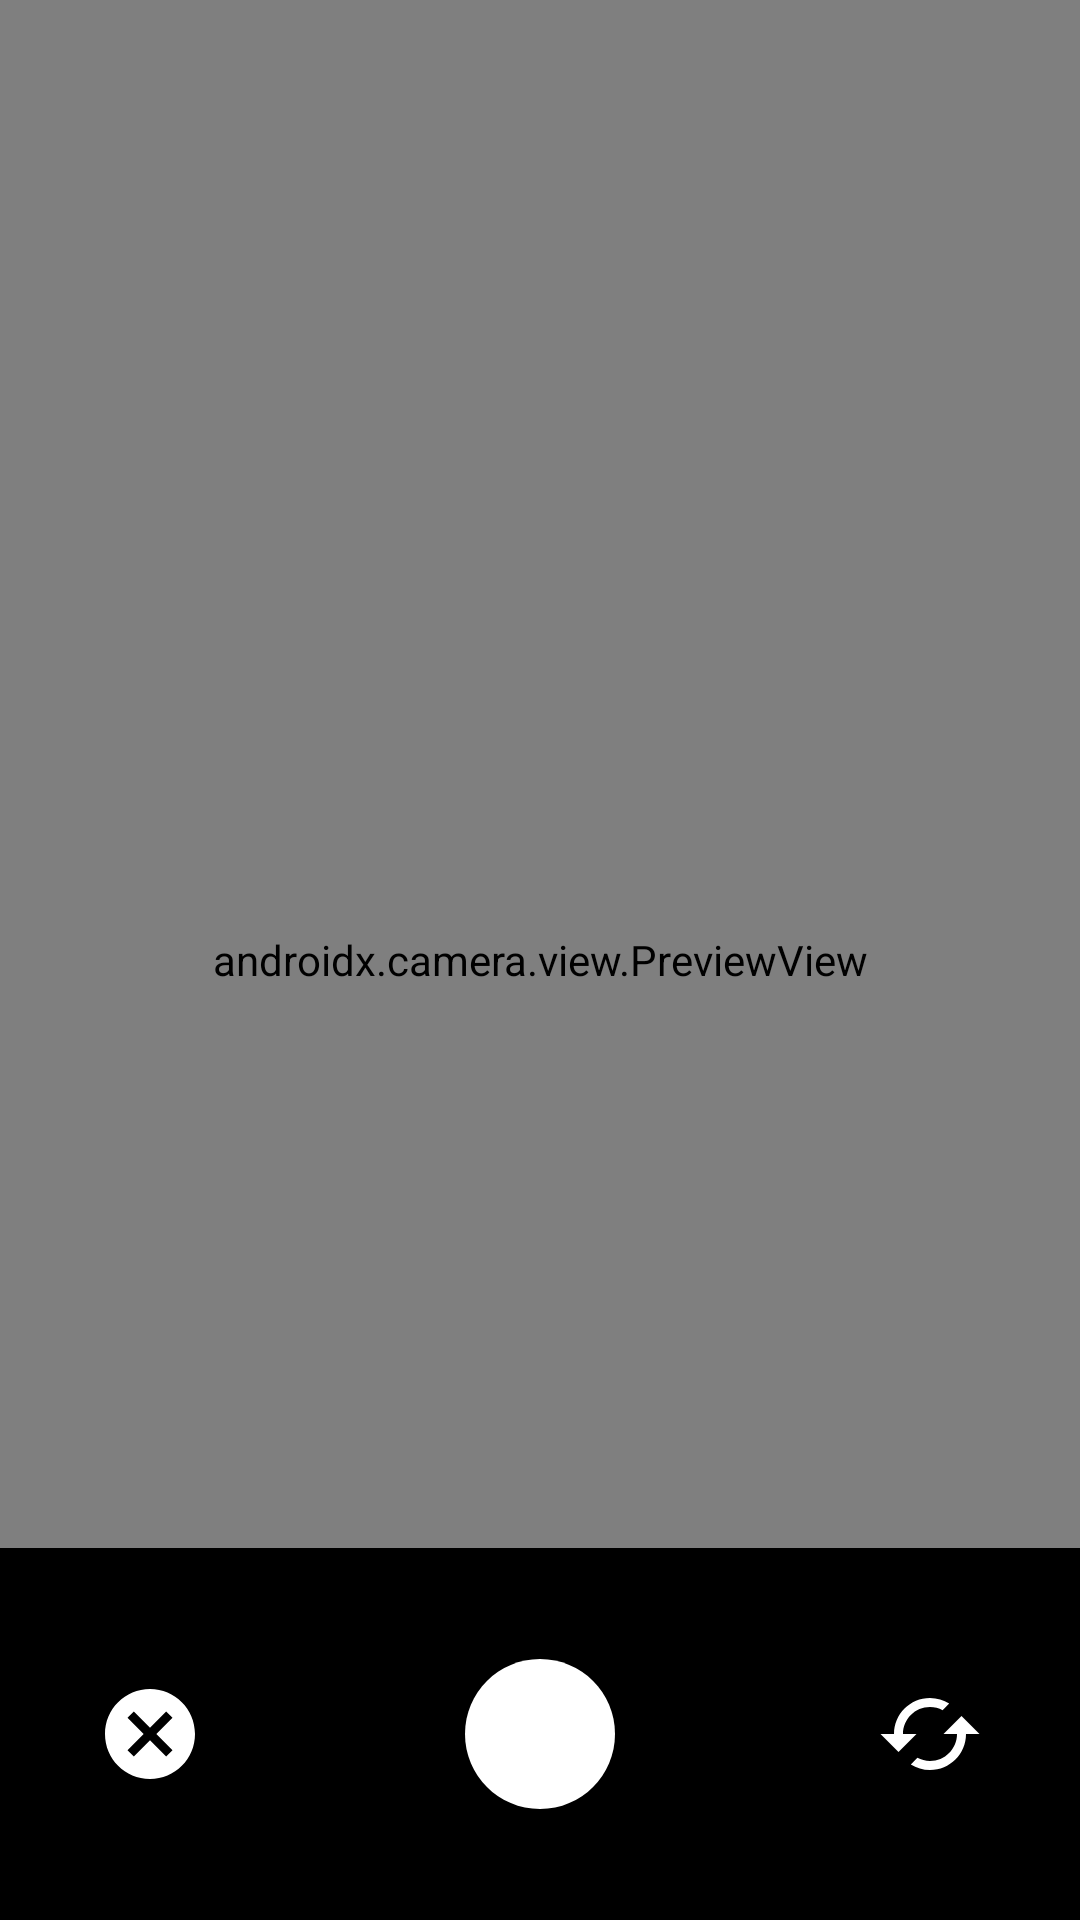

Screen size 1080 x 1920. Icon name, then its center in pixels as (x=x, y=y):
cancel: (x=150, y=1734)
flip: (x=930, y=1734)
